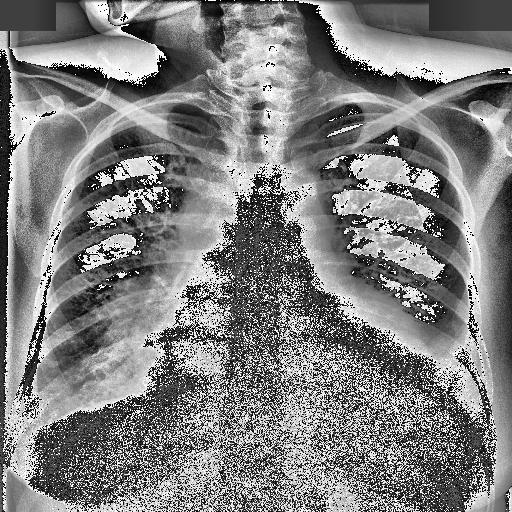10- Pleural effusion: (409, 318, 488, 422), (426, 312, 478, 412), (10, 380, 60, 464)
3- Cardiomegaly: (126, 308, 438, 464), (134, 300, 435, 422), (126, 323, 428, 388)
7- Lung Opacity: (37, 258, 172, 426), (36, 288, 140, 414), (410, 300, 490, 421)
9- Other lesion: (181, 160, 225, 251)
